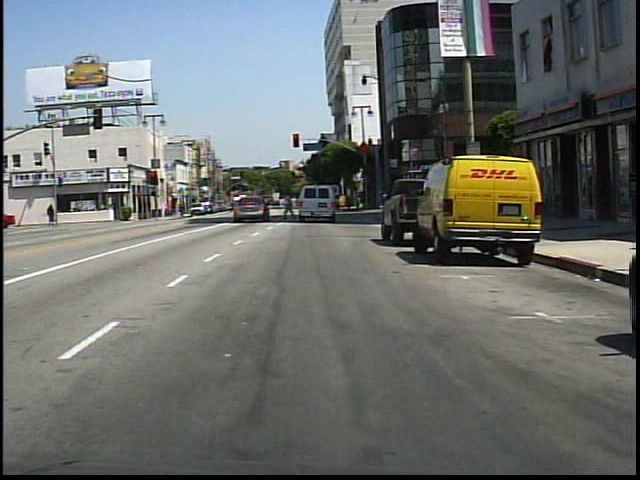person: (280, 191, 297, 223), (281, 195, 295, 218), (46, 205, 56, 225)
